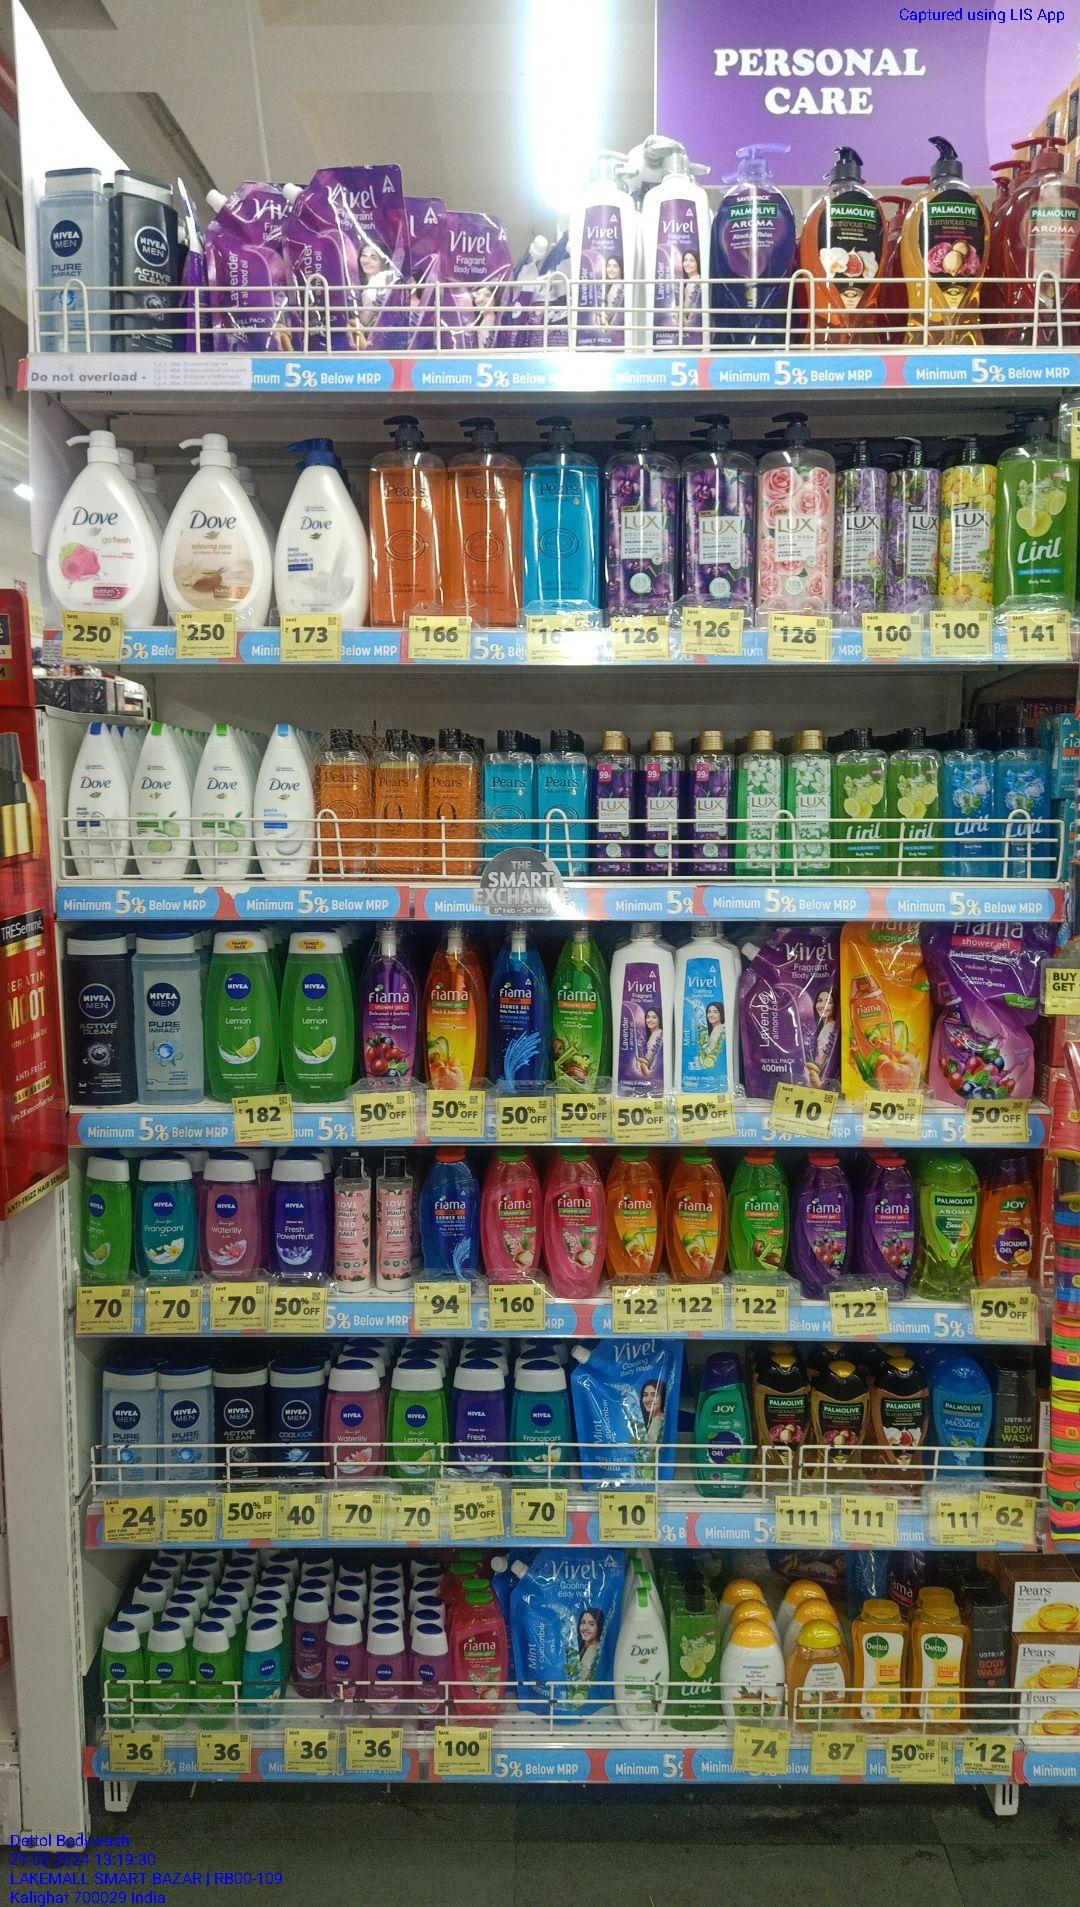Dettol_Bodywash_Refresh: (847, 1597, 911, 1733), (910, 1597, 969, 1733)
Dove_Deep_Moisture_Body_Wash_250ML: (67, 719, 131, 875)
Dove_Gentle_Exfoliating_Body_Wash_250ML: (254, 719, 315, 880)
Dove_Refreshing_Body_Wash_250ML: (131, 719, 192, 876), (192, 719, 254, 876), (613, 1587, 670, 1735)
Fiama_Shower_Gel_Lemongrass_and_Jojoba_250ML: (727, 1149, 792, 1282)
Fiama_Shower_Gel_Patchouli_and_Macadamia_250ML: (542, 1146, 603, 1298), (479, 1147, 542, 1282), (449, 1591, 511, 1729)
Fiama_Shower_Gel_Peach_and_Avocado_250ML: (664, 1149, 727, 1282), (605, 1147, 664, 1285)
Joy_Shower_Gel_Mandarin_and_Lemongrass_250ML: (979, 1150, 1038, 1286)
Joy_Shower_Gel_Mint_and_Eucalyptus_250ML: (689, 1350, 753, 1497)
Liril_Cooling_Mint_Body_Wash_250ML: (941, 723, 998, 878), (998, 723, 1050, 876)
Liril_Lime_and_Tea_Tree_Oil_Body_Wash_250ML: (888, 724, 944, 876), (834, 724, 888, 876), (672, 1585, 720, 1730)
Lux_Black_Orchid_Scent_and_Juniper_Oil_Body_Wash_245ML: (638, 726, 686, 876), (589, 727, 636, 876), (687, 726, 733, 875)
Lux_Body_Wash_Skin_Detox_Freesia_Scent_and_Alove_Vera_245ML: (734, 726, 787, 876), (787, 724, 833, 876)
Nivea_Shower_Gel_Frangipani_and_Oil_250ML: (135, 1151, 198, 1285), (507, 1360, 571, 1487)
Nivea_Shower_Gel_Fresh_Powerfruit_250ML: (267, 1151, 330, 1281), (448, 1356, 508, 1483)
Nivea_Shower_Gel_Lemon_and_Oil_250ML: (203, 925, 279, 1103), (279, 927, 355, 1103), (80, 1150, 135, 1286), (386, 1358, 448, 1477)
Nivea_Shower_Gel_Waterlily_and_Oil_250ML: (198, 1151, 262, 1284), (322, 1358, 385, 1479)
Palmolive_Aroma_Moments_Feel_The_Massage_Shower_Gel_250ML: (931, 1357, 994, 1481)
Palmolive_Aroma_Morning_Tonic_Shower_Gel_250ML: (918, 1153, 981, 1303)
Palmolive_Luminous_Oils_Invigorating_Macadamia_Oil_With_Peony_250ML: (808, 1360, 868, 1494), (751, 1353, 809, 1484)
Palmolive_Luminous_Oils_With_White_Orchid_Shower_Gel_250ML: (871, 1356, 928, 1494)
Pears_Pure_Glycerin_and_Mint_Extracts_Body_Wash_250ML: (533, 726, 590, 850), (480, 727, 534, 847)
